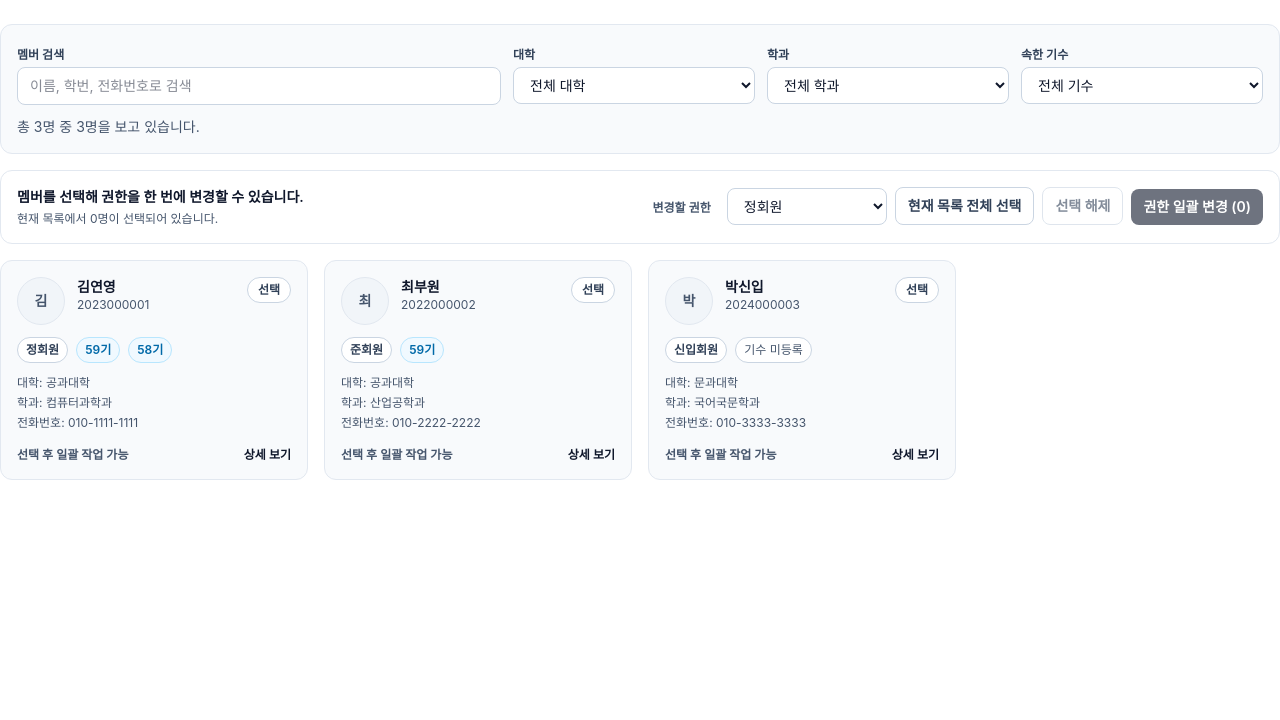
Test: MembersGrid › selects visible users and merges updated roles after bulk update
Expected: the text "김연영" is shown, [77, 278, 116, 295]
In the field with test id "settings-members-search-input": x=259, y=86 [17, 67, 501, 105], type "김"
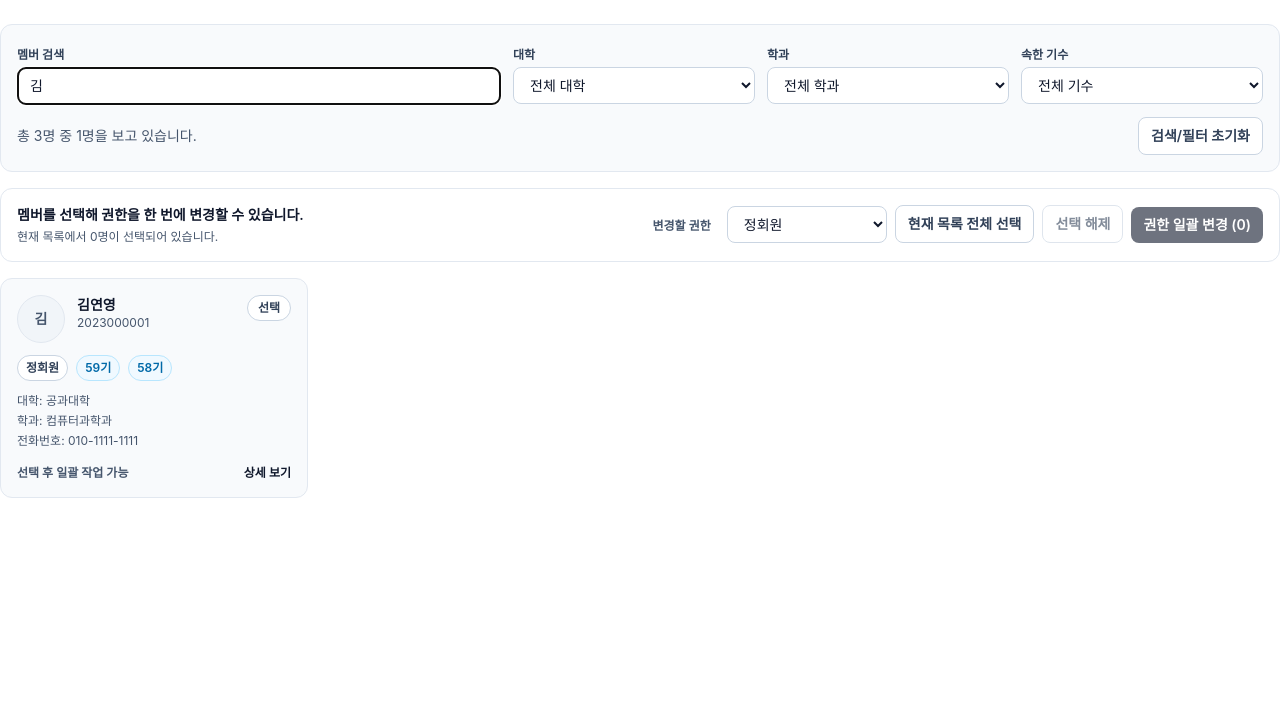
Result: the link "최부원" is gone
Click the button with test id "settings-members-select-visible-users": x=965, y=224 [895, 205, 1034, 243]
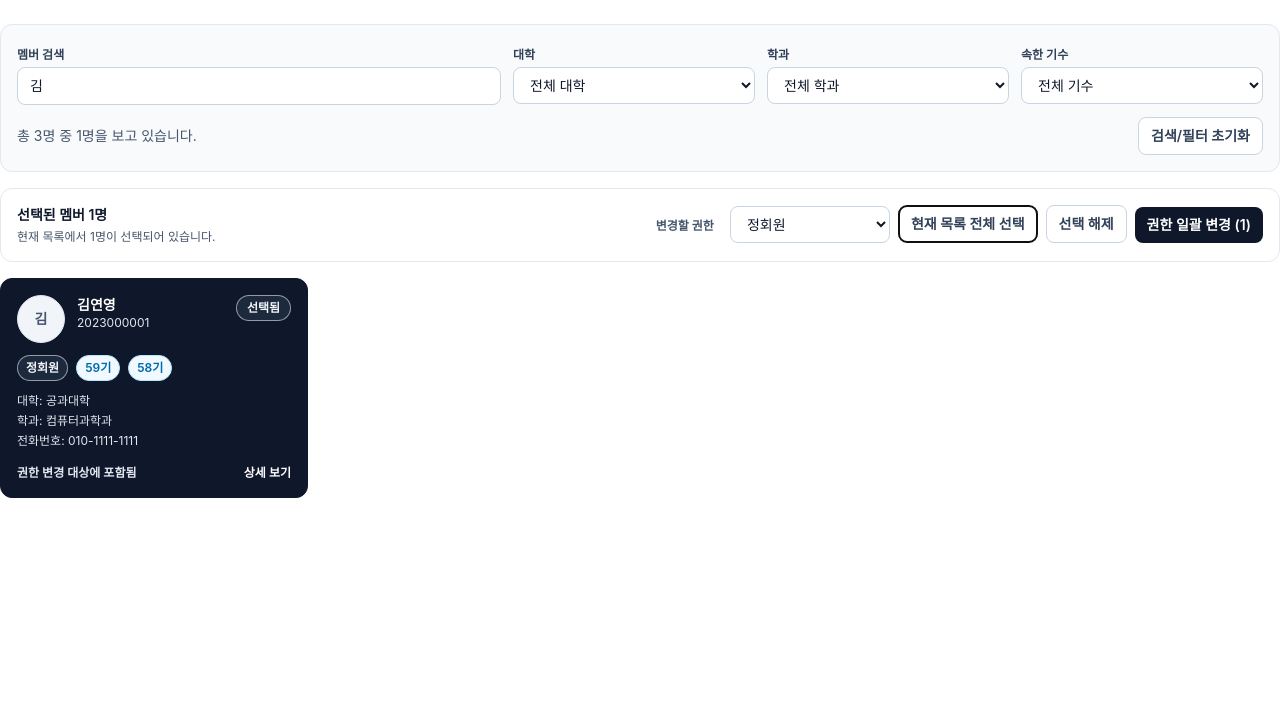
Result: the text with test id "settings-members-selection-summary" reads "선택된 멤버 1명" at [17, 206, 107, 223]
Select "부장" in the dropdown with test id "settings-members-bulk-role-select": x=810, y=224 [730, 206, 890, 243]
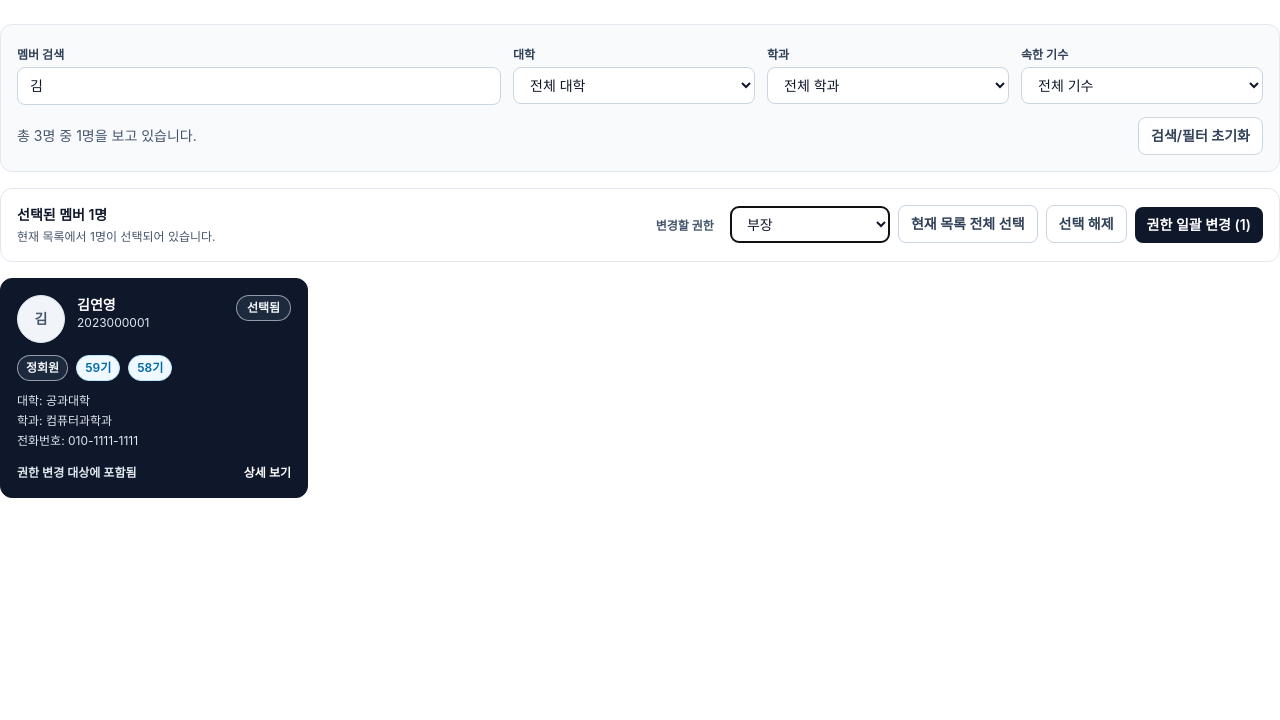
Click the button with test id "settings-members-bulk-role-submit": x=1199, y=225 [1135, 207, 1263, 243]
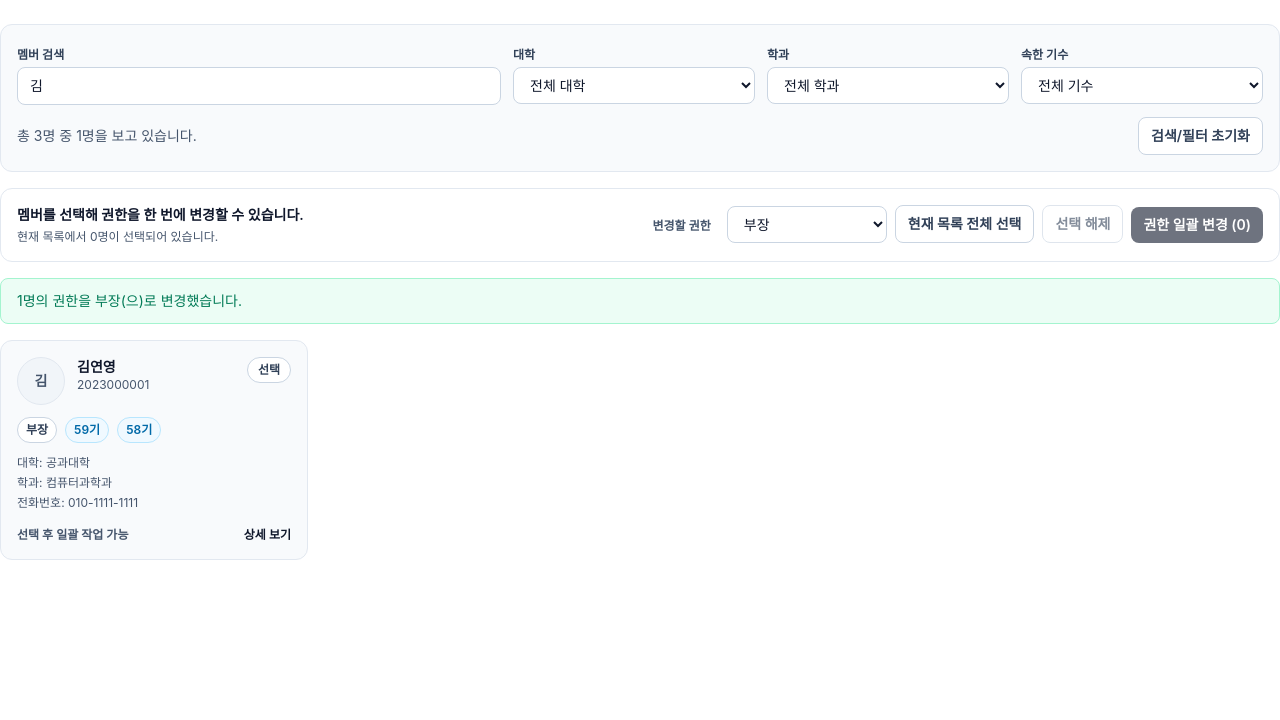
Result: the text "1명의 권한을 부장(으)로 변경했습니다." is shown at [0, 278, 1279, 324]
Result: the text with test id "settings-members-selection-summary" reads "멤버를 선택해 권한을 한 번에 변경할 수 있습니다." at [17, 206, 304, 223]
Result: the text "부장" is shown at [17, 417, 57, 443]
